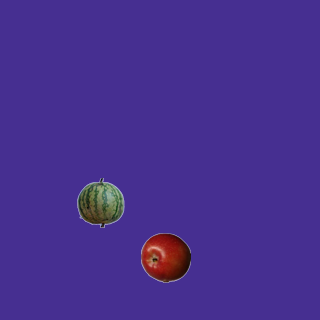Apple Braeburn: (140, 232, 190, 282)
Watermelon: (75, 177, 125, 227)
